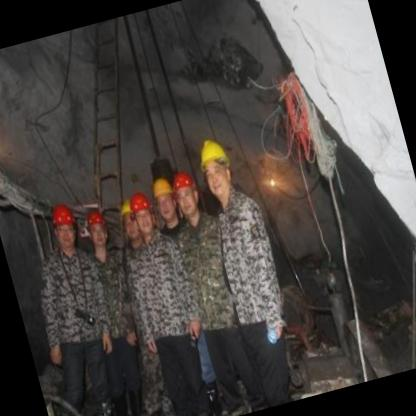helmet: (190, 131, 240, 207), (145, 167, 183, 227), (46, 200, 84, 254), (78, 204, 115, 254), (169, 168, 203, 220), (123, 188, 157, 238), (117, 198, 143, 246)
